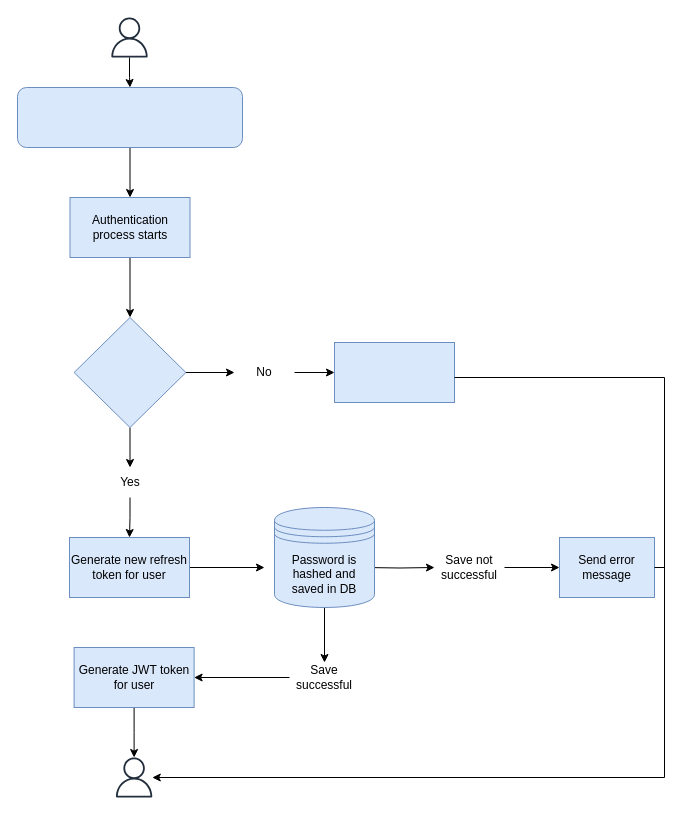
This 690x814 diagram has some shape labels left out. Each missing label, with the centre of its shape:
Is user valid?: the point at 129,372
Response code: 400 Invalid user: the point at 394,372
User enters username and password: the point at 129,117
